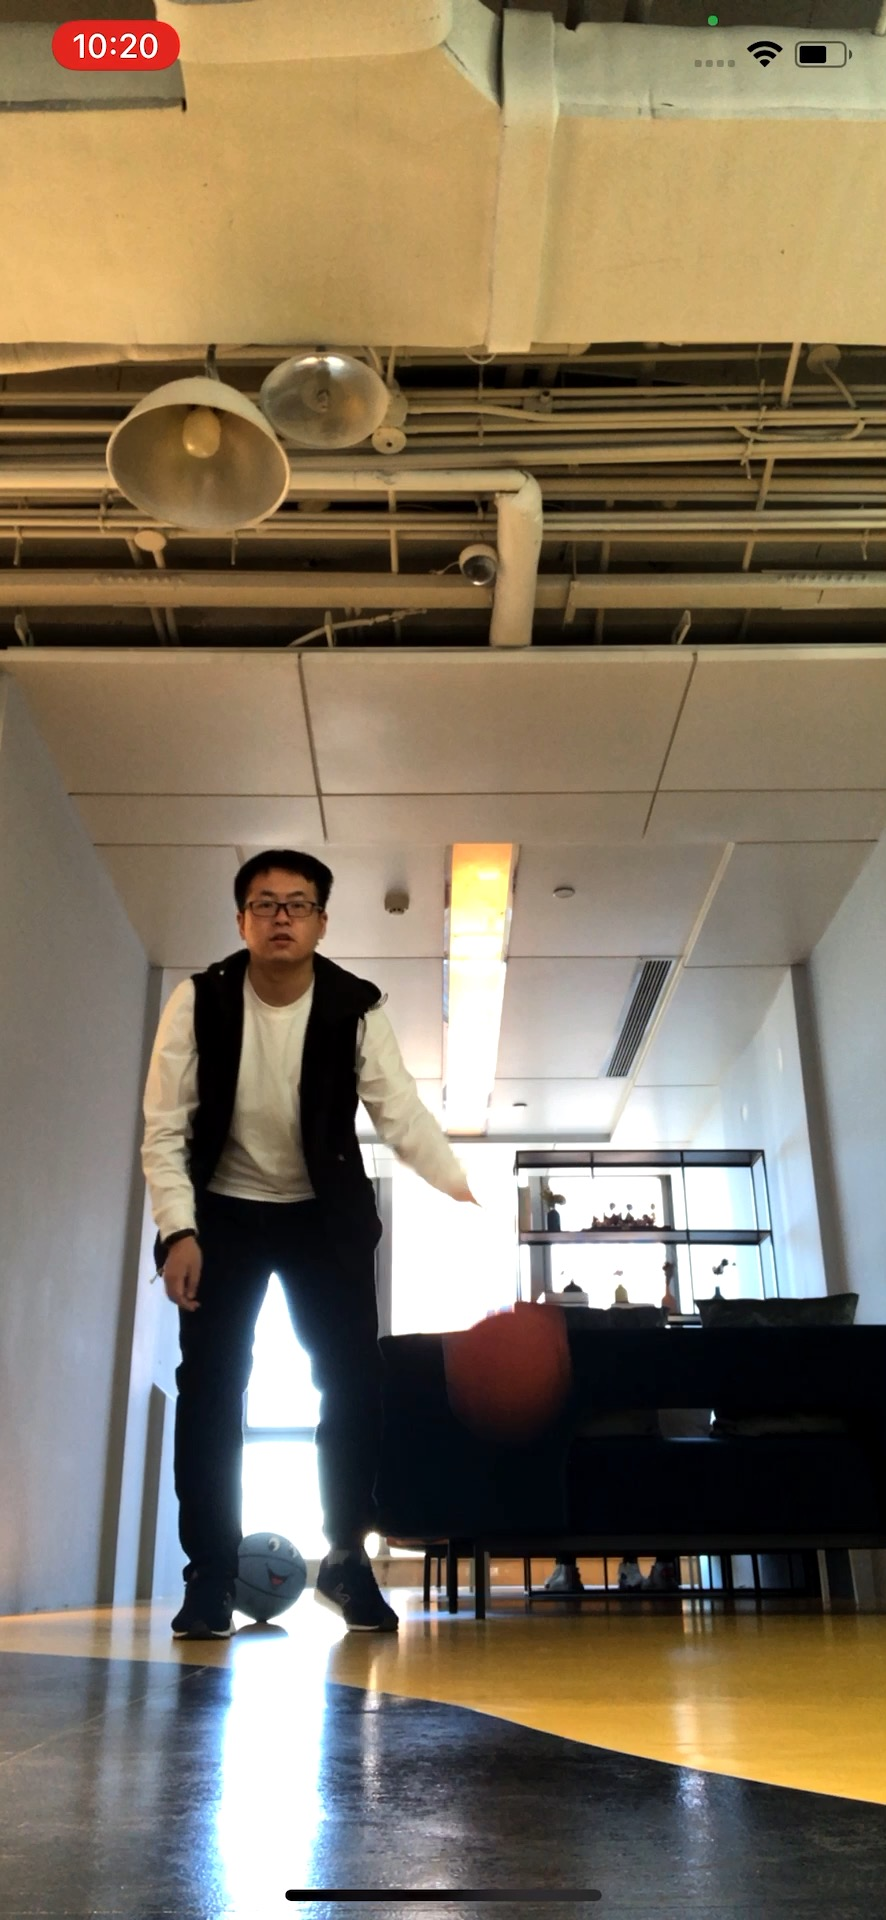ball: (445, 1316, 576, 1414)
